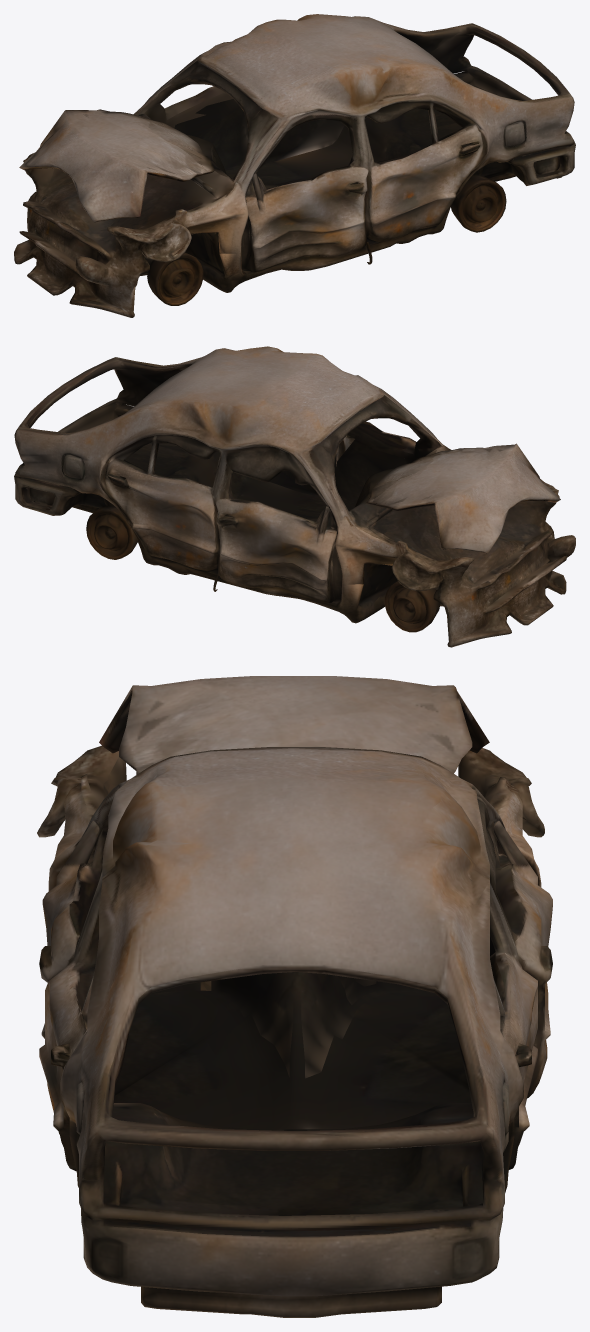
The model's file is destroyed_car (1).glb.
3 views of the same model, one above another, from view 1: azimuth 30°, elevation 25°; view 2: azimuth 150°, elevation 25°; view 3: azimuth 270°, elevation 25° (orthographic). The views are drawn at different scales.
Parts seen in each view (by area): view 1: texture_pbr_v128_0; view 2: texture_pbr_v128_0; view 3: texture_pbr_v128_0.
Boxes of the visible parts, box(x1,y1,x2,y2) form: texture_pbr_v128_0: box(14, 14, 575, 317); texture_pbr_v128_0: box(14, 346, 575, 647); texture_pbr_v128_0: box(37, 676, 552, 1317).
Size of the model in its own units: 1.14 by 0.4011 by 0.5157.
1 material, 1 textured.
